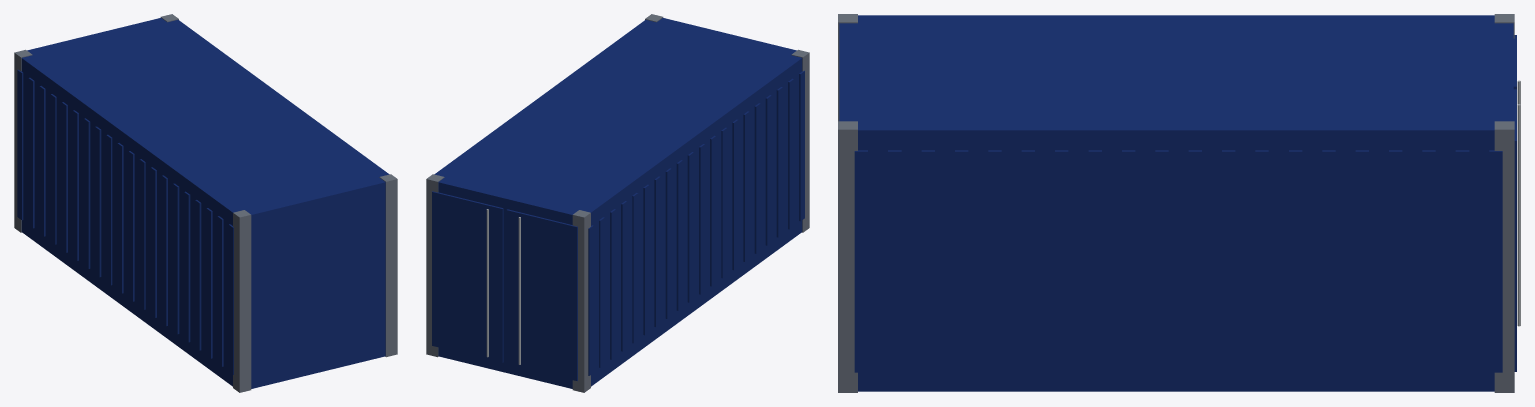
File: plant.cabin.container_20.glb
3 renders of one model, left to right at view 1: azimuth 30°, elevation 25°; view 2: azimuth 150°, elevation 25°; view 3: azimuth 270°, elevation 25°, orthographic. The views are drawn at different scales.
Visible parts, largest first — view 1: main__car_blue, main__steel_painted; view 2: main__car_blue, main__steel_painted, main__steel_galvanised; view 3: main__car_blue, main__steel_painted, main__steel_galvanised.
Boxes of the visible parts, box(x1,y1,x2,y2) form: main__car_blue: box(17, 18, 389, 388); main__steel_painted: box(14, 14, 397, 392); main__car_blue: box(432, 18, 804, 388); main__steel_painted: box(426, 14, 809, 392); main__steel_galvanised: box(486, 209, 520, 364); main__car_blue: box(839, 15, 1516, 391); main__steel_painted: box(838, 14, 1514, 392); main__steel_galvanised: box(1517, 80, 1520, 326).
Size of the model in its own units: 2.49 by 2.61 by 6.13.
